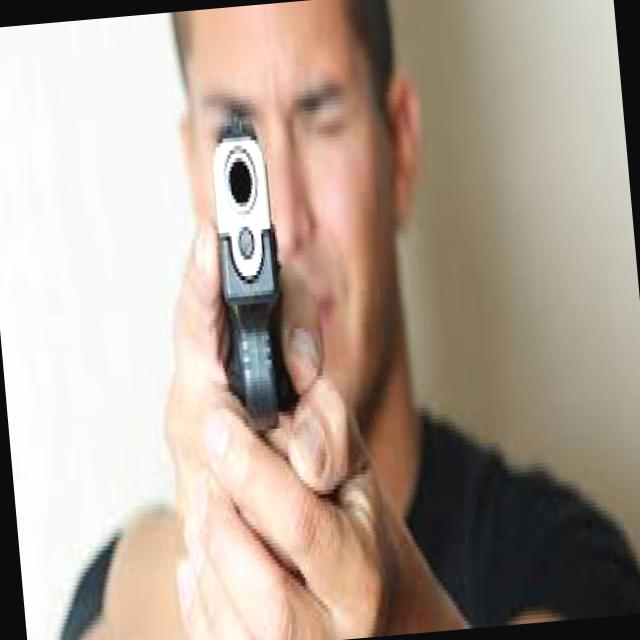handgun: (204, 101, 300, 468)
